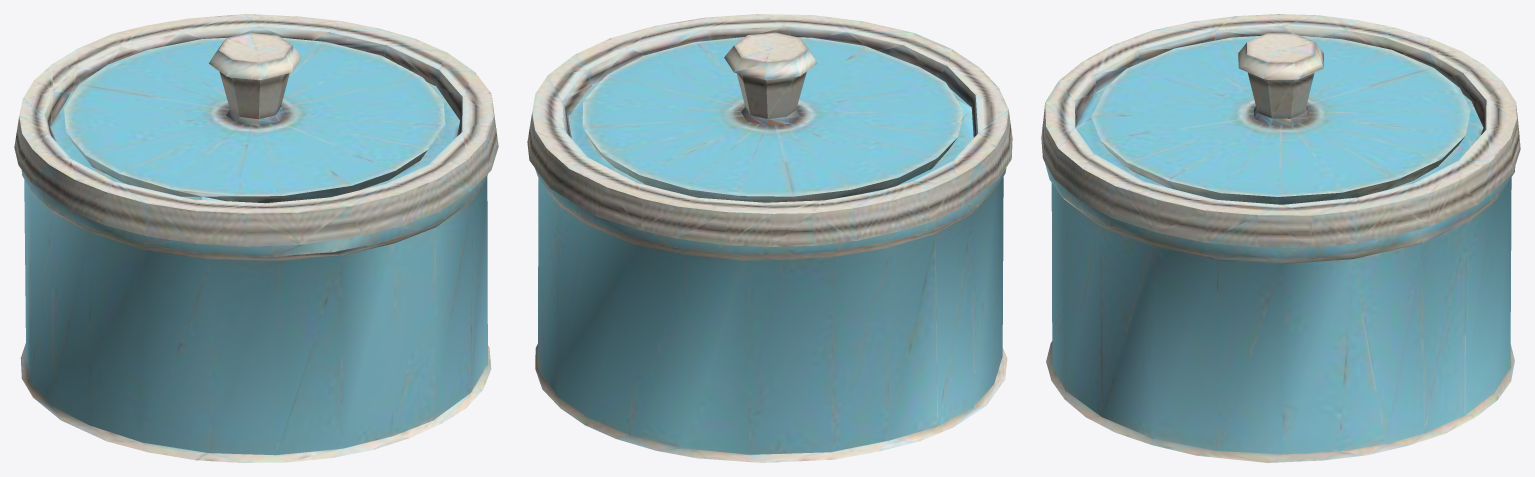
The model's file is cookietin.glb.
3 views of the same model, side by side, from view 1: azimuth 30°, elevation 25°; view 2: azimuth 150°, elevation 25°; view 3: azimuth 270°, elevation 25° (orthographic).
Visible parts, largest first — view 1: Mesh_0; view 2: Mesh_0; view 3: Mesh_0.
Part boxes in pixels (<box>): Mesh_0: <box>14,14,498,462</box>; Mesh_0: <box>527,14,1012,462</box>; Mesh_0: <box>1041,14,1520,462</box>.
Bounding box in the file's own units: 70 × 50.78 × 69.99.
1 material, 1 textured.
